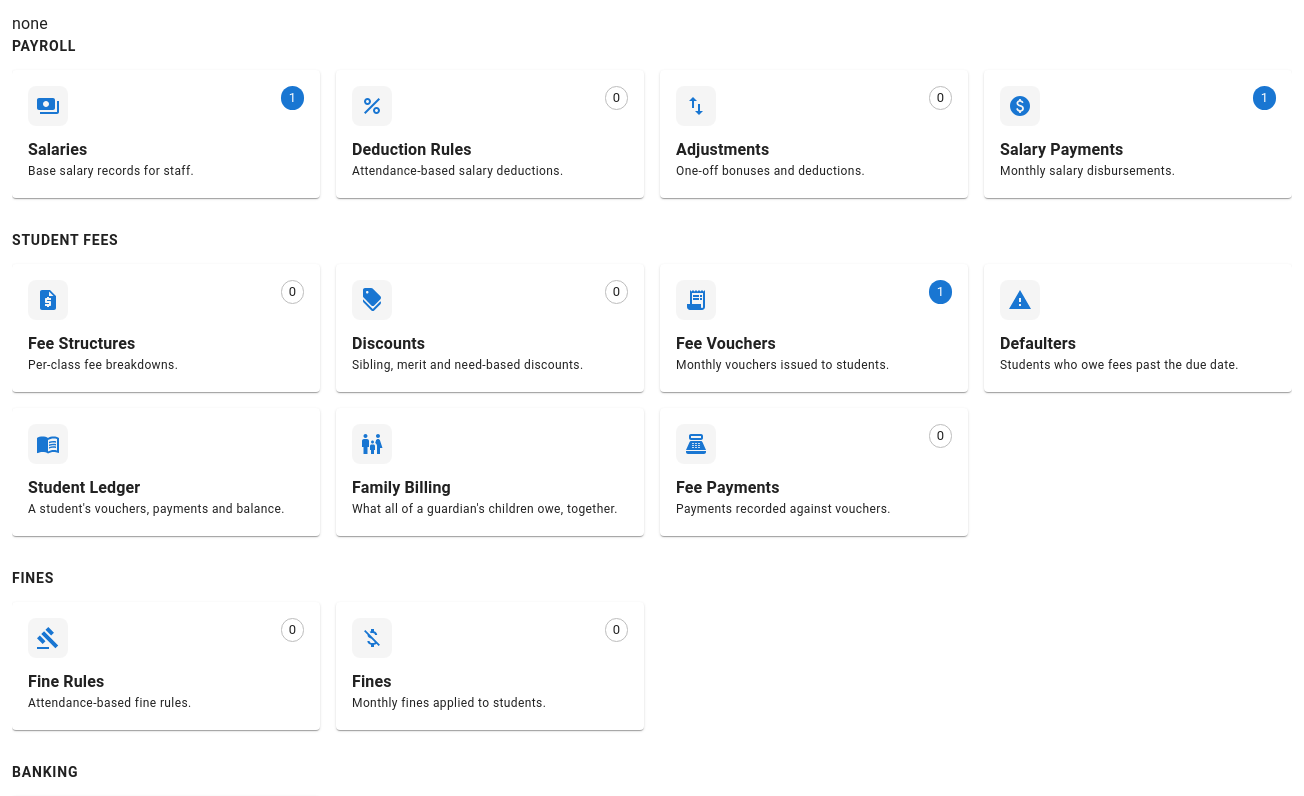
Test case: FinanceManager navigation › opens a section into the breadcrumb and goes back to the hub
Click the button "1 Fee Vouchers Monthly vouchers issued to students." at (696, 300), box [660,264,968,392]
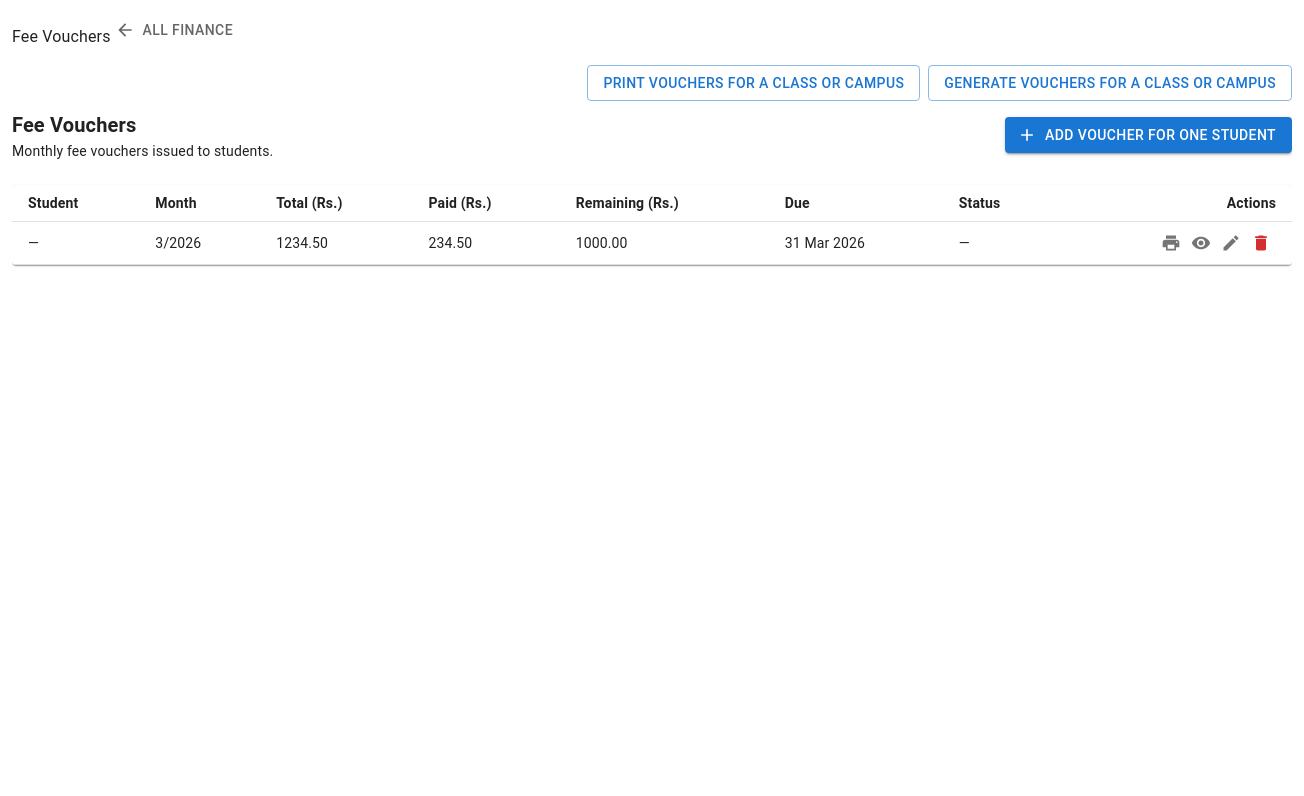
Result: the text with test id "crumb" reads "Fee Vouchers" at [12,28,110,46]
Click the button "All Finance" at (176, 30), box [110,12,241,48]
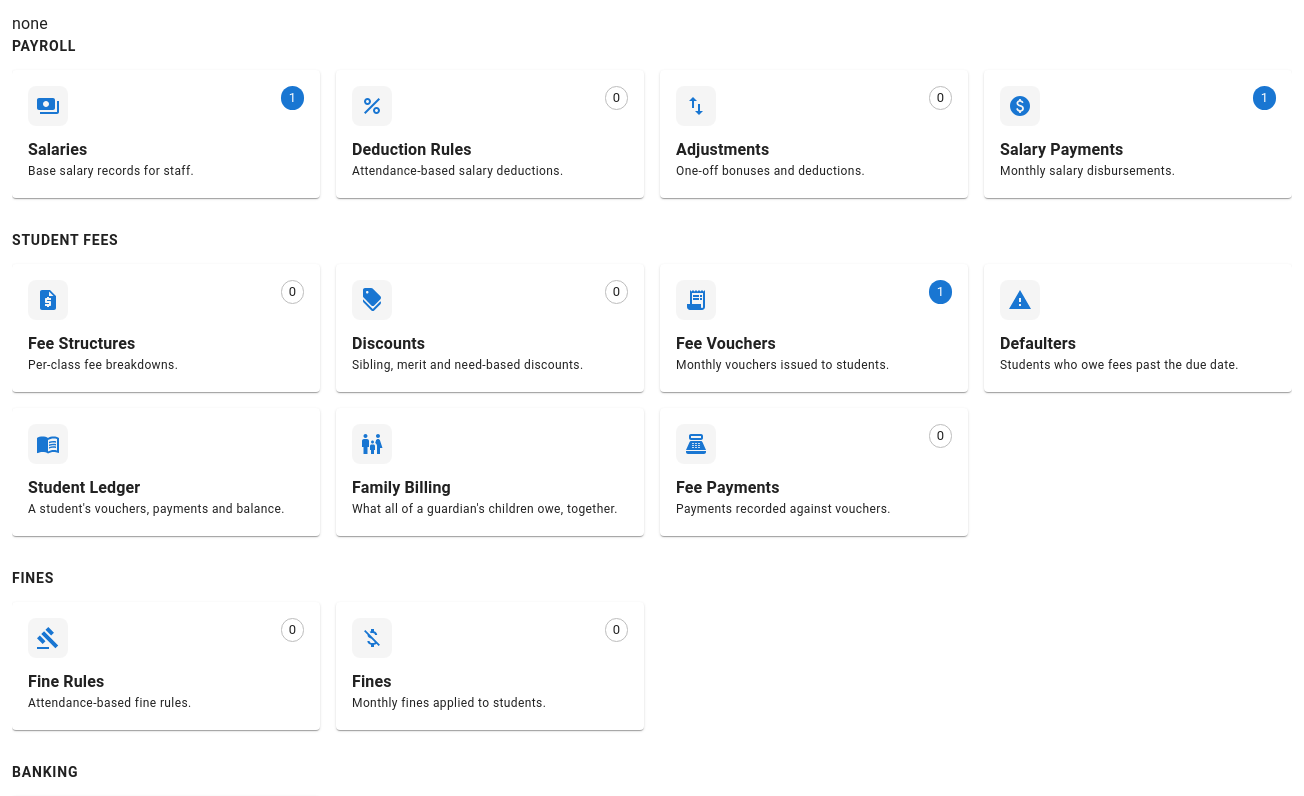
Result: the text with test id "crumb" reads "none" at [12,14,48,33]
